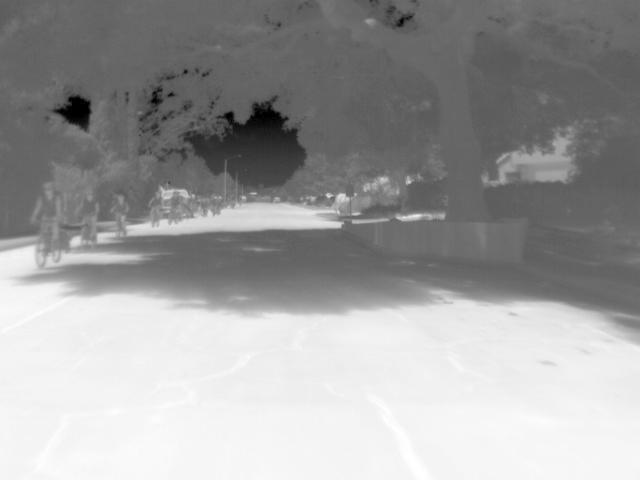car: (161, 190, 175, 216), (178, 188, 192, 204)
person: (28, 183, 66, 252), (76, 190, 103, 246), (108, 192, 135, 236), (144, 191, 163, 223)
